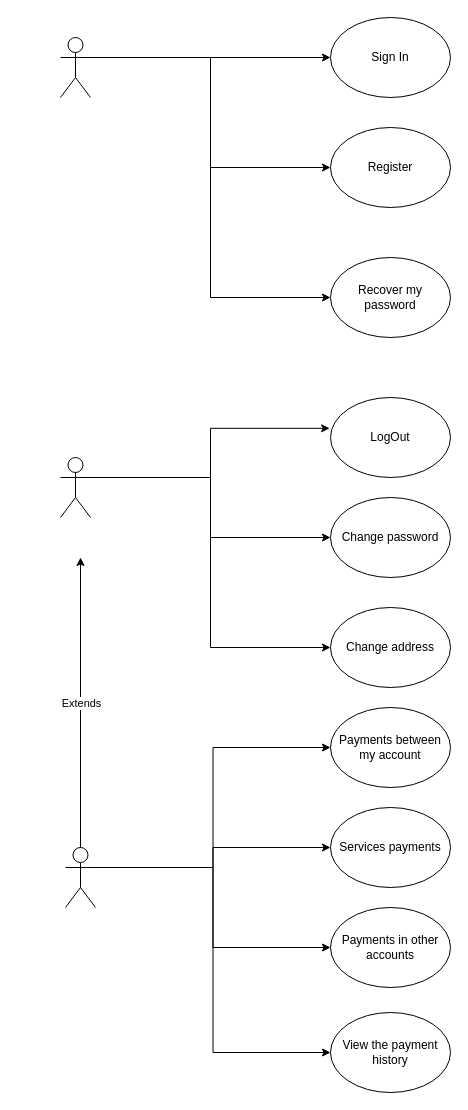
This 468x1110 diagram has some shape labels left out. The shapes that lost their labels are listed below. From the top down, each one's centre as x and y in pixels, then its label:
the point at 75,67: Unauthenticated User
the point at 75,487: Authenticated User
the point at 80,877: Customer
